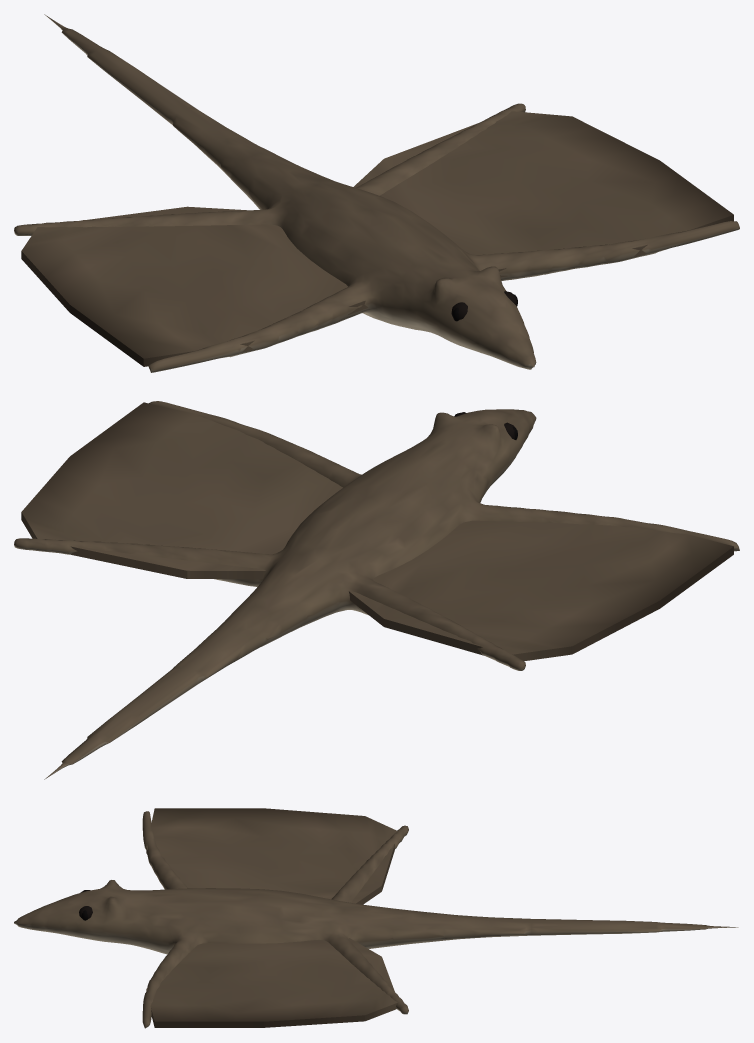
The model's file is Volaticotherium.fbx.
The picture shows the model from 3 angles, top to bottom: view 1: azimuth 30°, elevation 25°; view 2: azimuth 150°, elevation 25°; view 3: azimuth 270°, elevation 25°; orthographic projection. The views are drawn at different scales.
Parts seen in each view (by area): view 1: Volaticotherium; view 2: Volaticotherium; view 3: Volaticotherium.
Boxes of the visible parts, x1=… form: Volaticotherium: x1=14, y1=14, x2=739, y2=372; Volaticotherium: x1=14, y1=401, x2=739, y2=779; Volaticotherium: x1=14, y1=808, x2=738, y2=1028.
Bounding box in the file's own units: 0.6 × 0.0895 × 0.8623.
